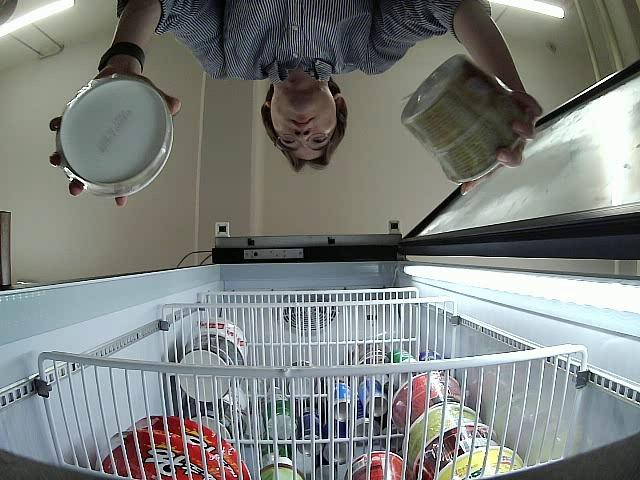00_hand: (46, 68, 184, 209), (460, 88, 545, 198)
03_chapagetti_L: (400, 56, 524, 183), (57, 76, 175, 195)
